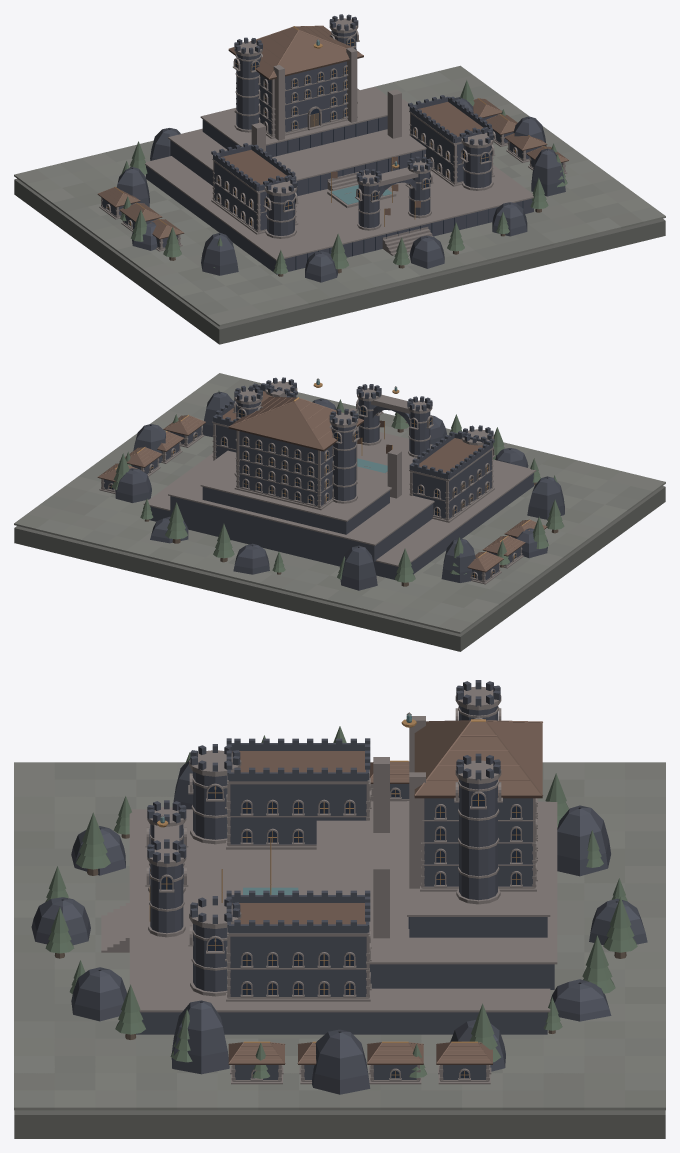
Rendered from basalt.glb.
3 renders of one model, top to bottom at view 1: azimuth 30°, elevation 25°; view 2: azimuth 150°, elevation 25°; view 3: azimuth 270°, elevation 25°, orthographic. The views are drawn at different scales.
Parts seen in each view (by area): view 1: site, black-terraces, defences, high-keep, defences-roof, landscape, high-keep-roof, landscape-roof, court; view 2: site, black-terraces, high-keep, defences, landscape, high-keep-roof, defences-roof, landscape-roof; view 3: site, black-terraces, defences, high-keep, defences-roof, landscape, high-keep-roof, landscape-roof.
Boxes of the visible parts, left/top/right/bottom form: site: left=14, top=65, right=665, bottom=344; black-terraces: left=145, top=87, right=533, bottom=274; defences: left=211, top=89, right=495, bottom=238; high-keep: left=233, top=18, right=359, bottom=140; defences-roof: left=211, top=95, right=493, bottom=193; landscape: left=99, top=80, right=567, bottom=276; high-keep-roof: left=228, top=14, right=363, bottom=80; landscape-roof: left=97, top=98, right=568, bottom=239; court: left=327, top=156, right=397, bottom=208; site: left=14, top=373, right=665, bottom=651; black-terraces: left=143, top=426, right=536, bottom=580; high-keep: left=232, top=389, right=359, bottom=510; defences: left=212, top=381, right=495, bottom=522; landscape: left=99, top=390, right=564, bottom=586; high-keep-roof: left=228, top=385, right=363, bottom=451; defences-roof: left=213, top=377, right=494, bottom=479; landscape-roof: left=97, top=415, right=547, bottom=572; site: left=14, top=758, right=665, bottom=1138; black-terraces: left=101, top=801, right=557, bottom=1034; defences: left=145, top=750, right=389, bottom=1001; high-keep: left=409, top=686, right=537, bottom=904; defences-roof: left=147, top=738, right=370, bottom=933; landscape: left=45, top=726, right=637, bottom=1084; high-keep-roof: left=414, top=680, right=542, bottom=798; landscape-roof: left=228, top=760, right=492, bottom=1064.
Size of the model in its own units: 59.01 by 20.22 by 47.06.
